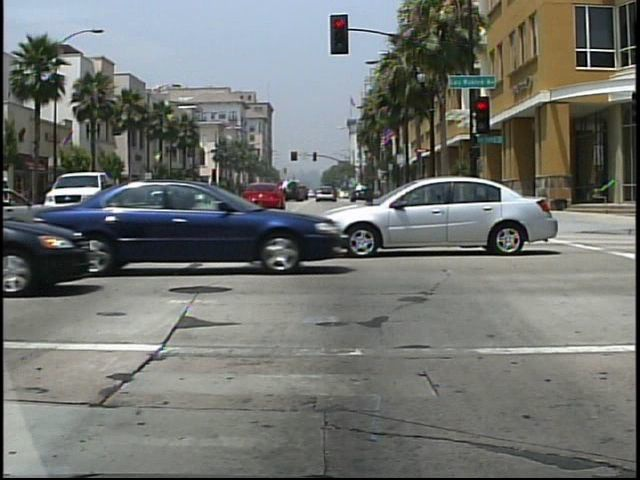person: (3, 172, 17, 227)
